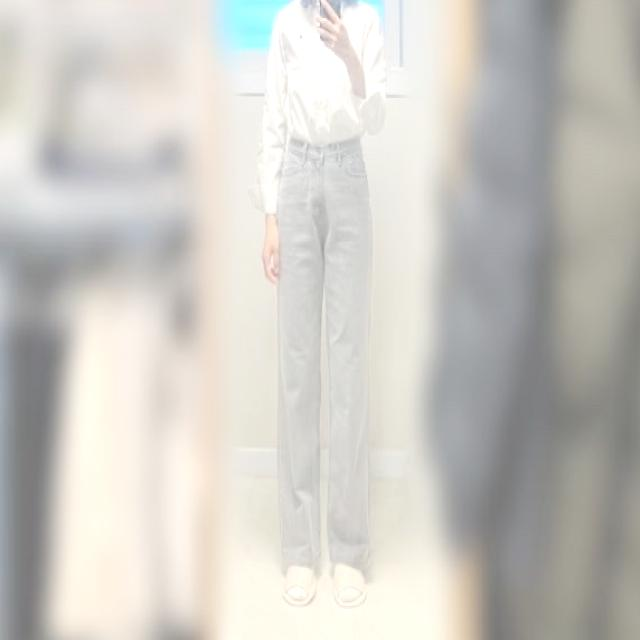denimpants: (272, 135, 369, 578)
shirt: (256, 1, 388, 215)
